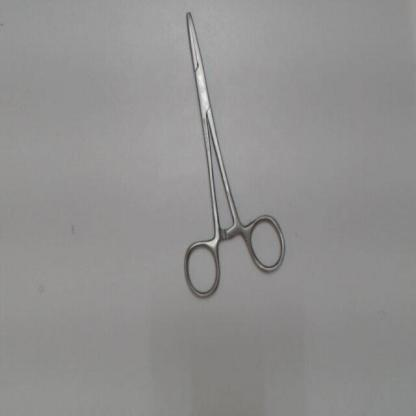Mayo Needle Holder: (174, 3, 293, 307)
